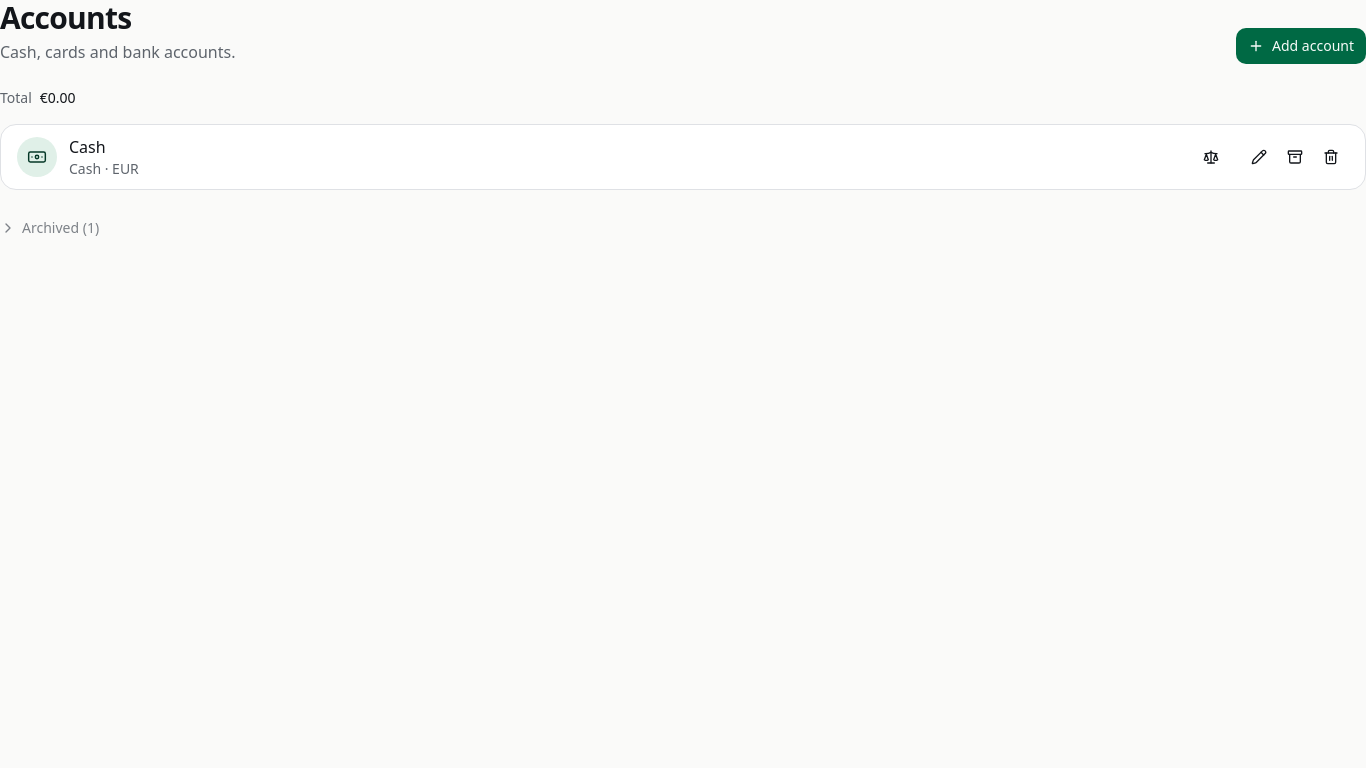
Test: AccountsPage › creates an account from the dialog and closes it
Click the button "Add account" at (1301, 46), box [1236,28,1365,64]
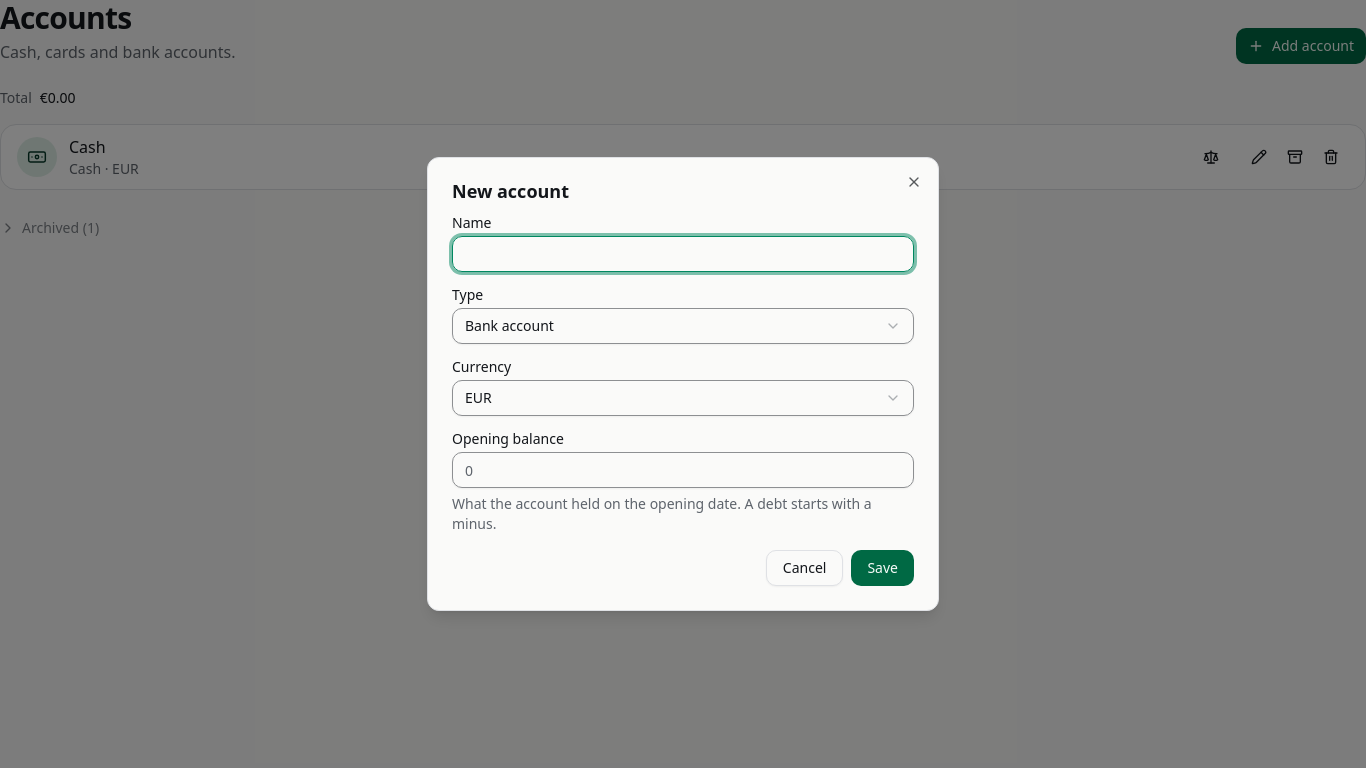
Click the button "Save" at (883, 568), box [851,550,914,586]
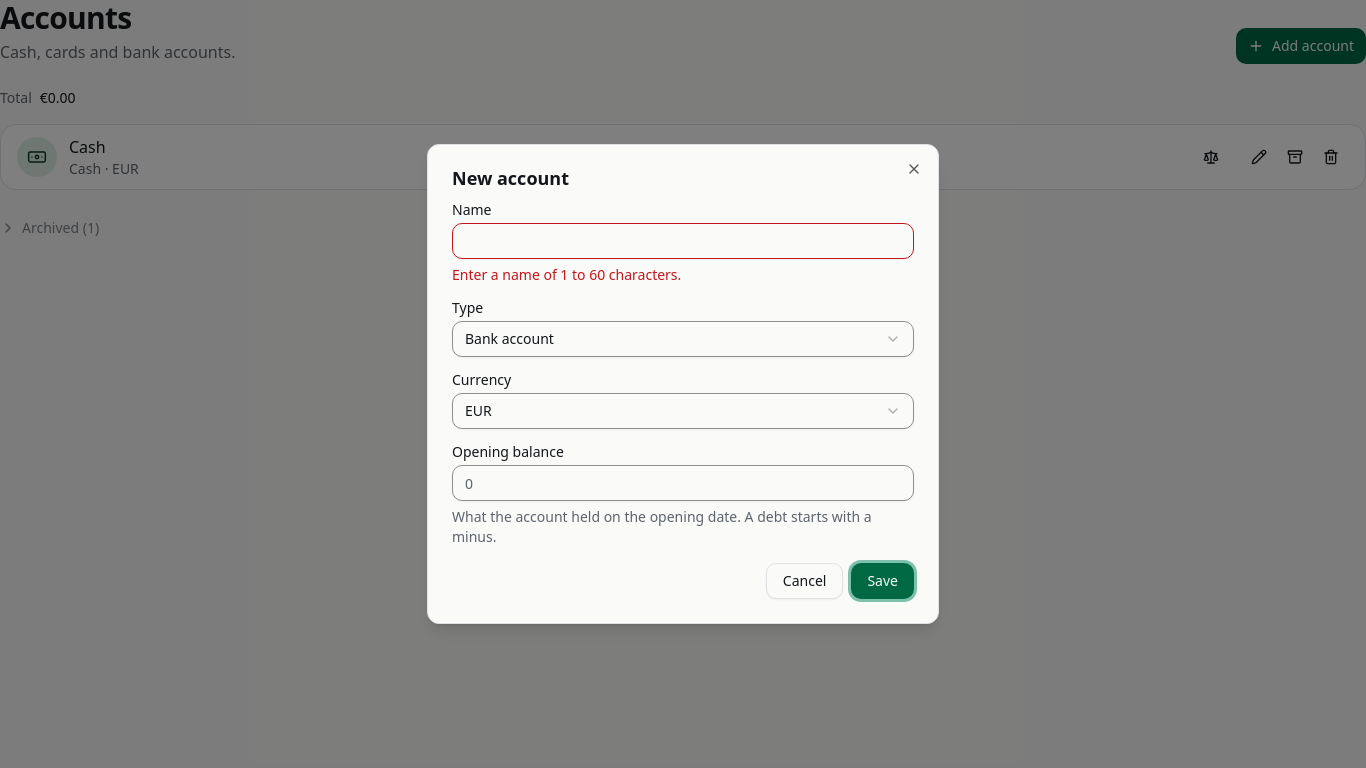
expect the text "Enter a name of 1 to 60 characters." is shown: met, box [452,265,681,284]
Type "  Savings jar " into the field labelled "Name" at (683, 241), box [452,223,914,259]
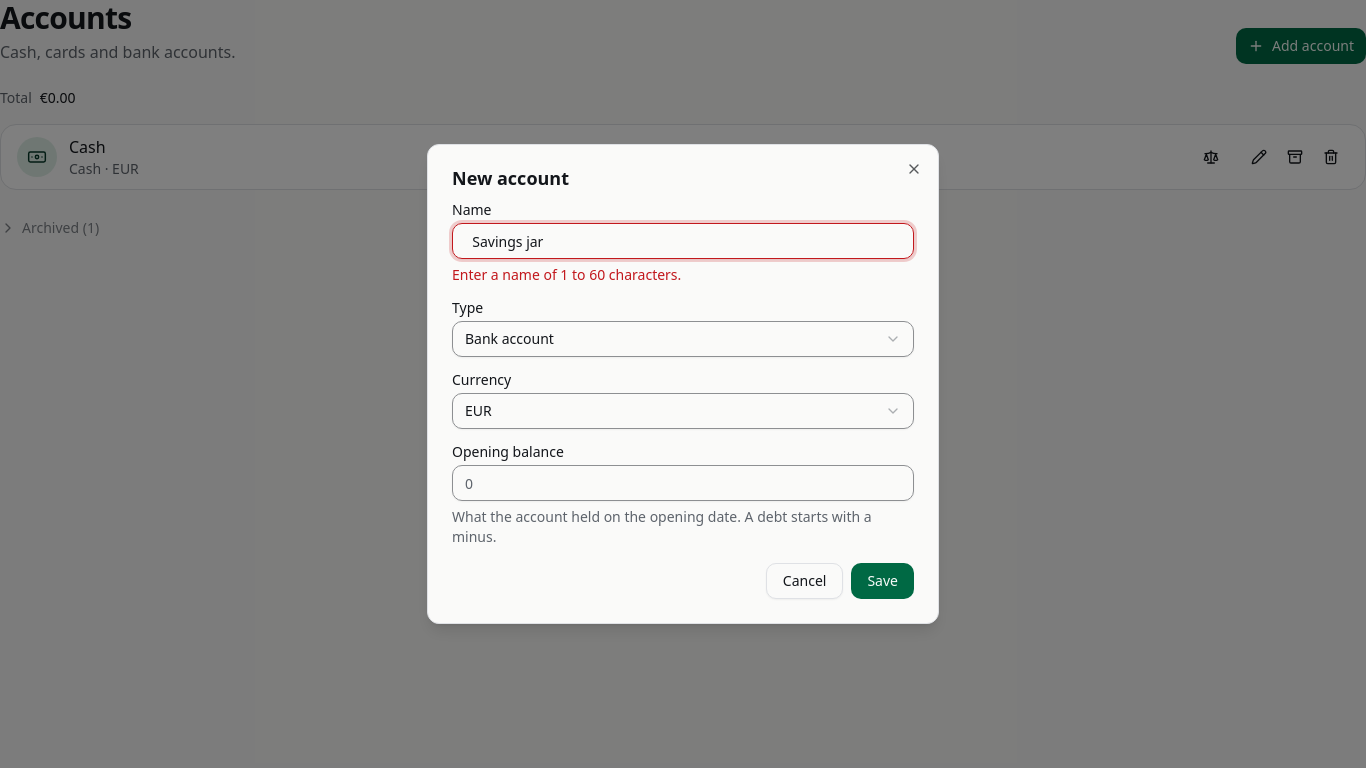
Click the button "Save" at (883, 581), box [851,563,914,599]
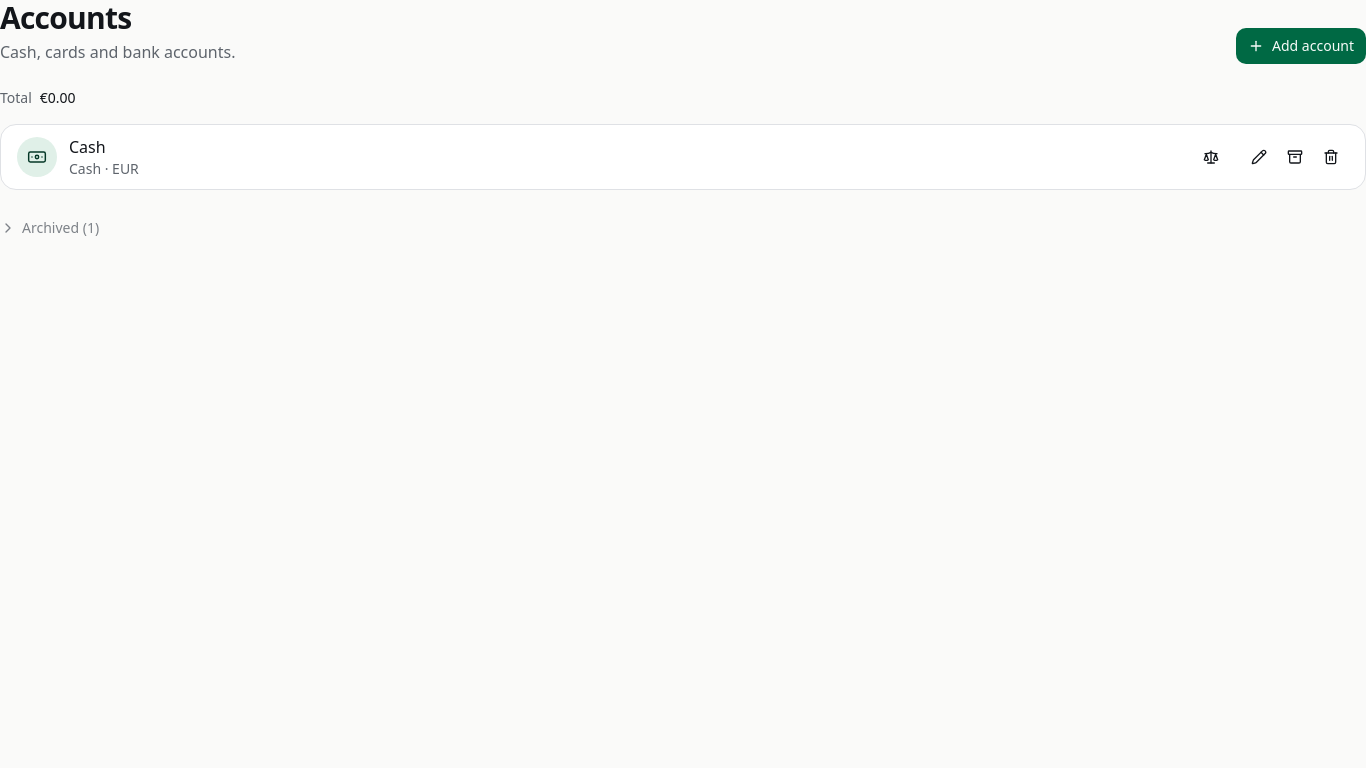
expect the dialog is gone: met
